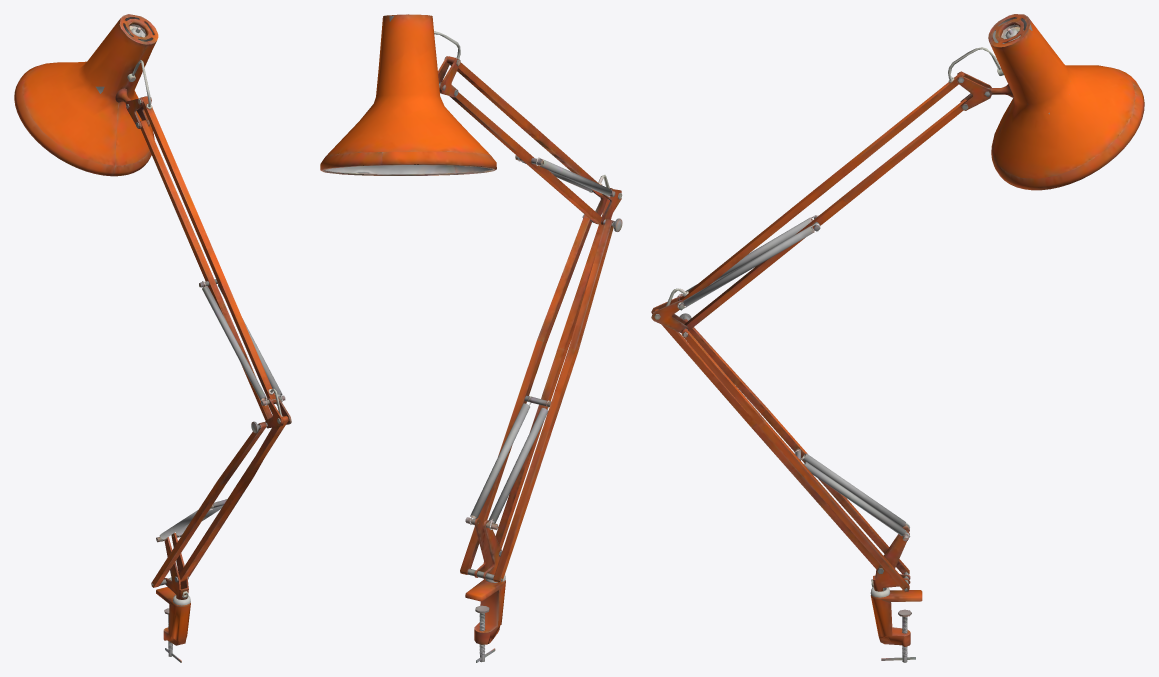
The model's file is desk_lamp_arm_01.glb.
3 views of the same model, side by side, from view 1: azimuth 30°, elevation 25°; view 2: azimuth 150°, elevation 25°; view 3: azimuth 270°, elevation 25° (orthographic). The views are drawn at different scales.
Visible parts, largest first — view 1: desk_lamp_arm_01; view 2: desk_lamp_arm_01; view 3: desk_lamp_arm_01.
Part boxes in pixels (x1,y1,x2,y2): desk_lamp_arm_01: (14, 14, 291, 662); desk_lamp_arm_01: (320, 14, 622, 662); desk_lamp_arm_01: (651, 14, 1144, 662).
Size of the model in its own units: 0.2017 by 0.8926 by 0.6139.
2 materials, 2 textured.
